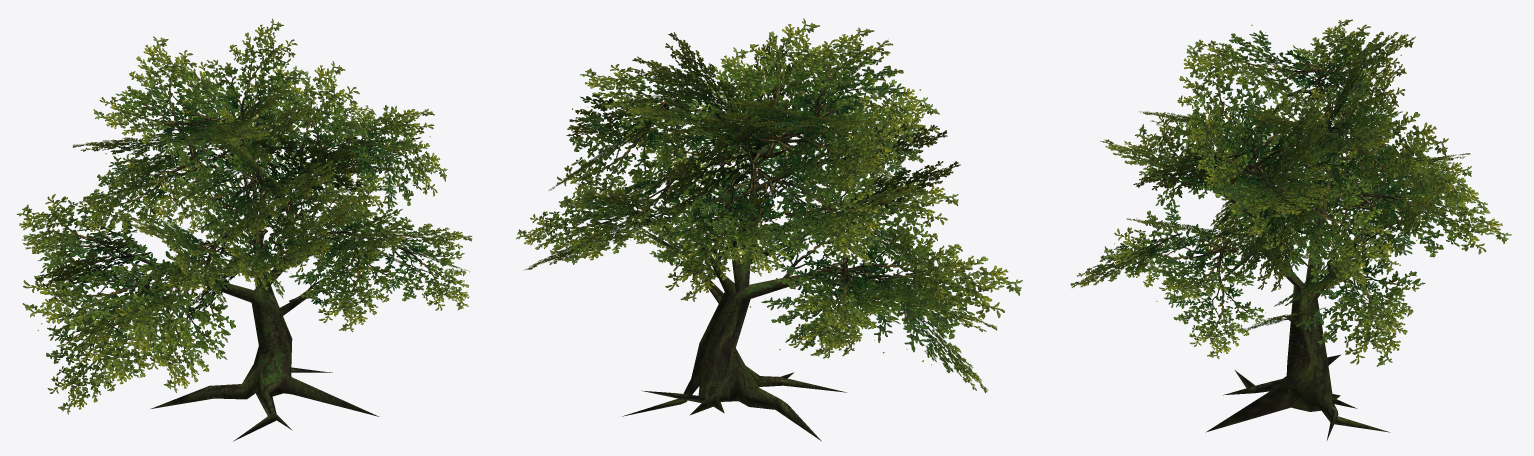
The model's file is qys_tree02_LOD2.FBX.
3 views of the same model, side by side, from view 1: azimuth 30°, elevation 25°; view 2: azimuth 150°, elevation 25°; view 3: azimuth 270°, elevation 25° (orthographic). The views are drawn at different scales.
Visible parts, largest first — view 1: qys_tree02_02_LOD2, qys_tree02_01_LOD2; view 2: qys_tree02_02_LOD2, qys_tree02_01_LOD2; view 3: qys_tree02_02_LOD2, qys_tree02_01_LOD2.
Boxes of the visible parts, x1,y1,x2,y2 form: qys_tree02_02_LOD2: [16, 18, 472, 414]; qys_tree02_01_LOD2: [86, 86, 408, 441]; qys_tree02_02_LOD2: [516, 18, 1022, 392]; qys_tree02_01_LOD2: [613, 94, 880, 441]; qys_tree02_02_LOD2: [1070, 19, 1511, 366]; qys_tree02_01_LOD2: [1172, 105, 1412, 440].
Bounding box in the file's own units: 1735 × 1410 × 1612.
